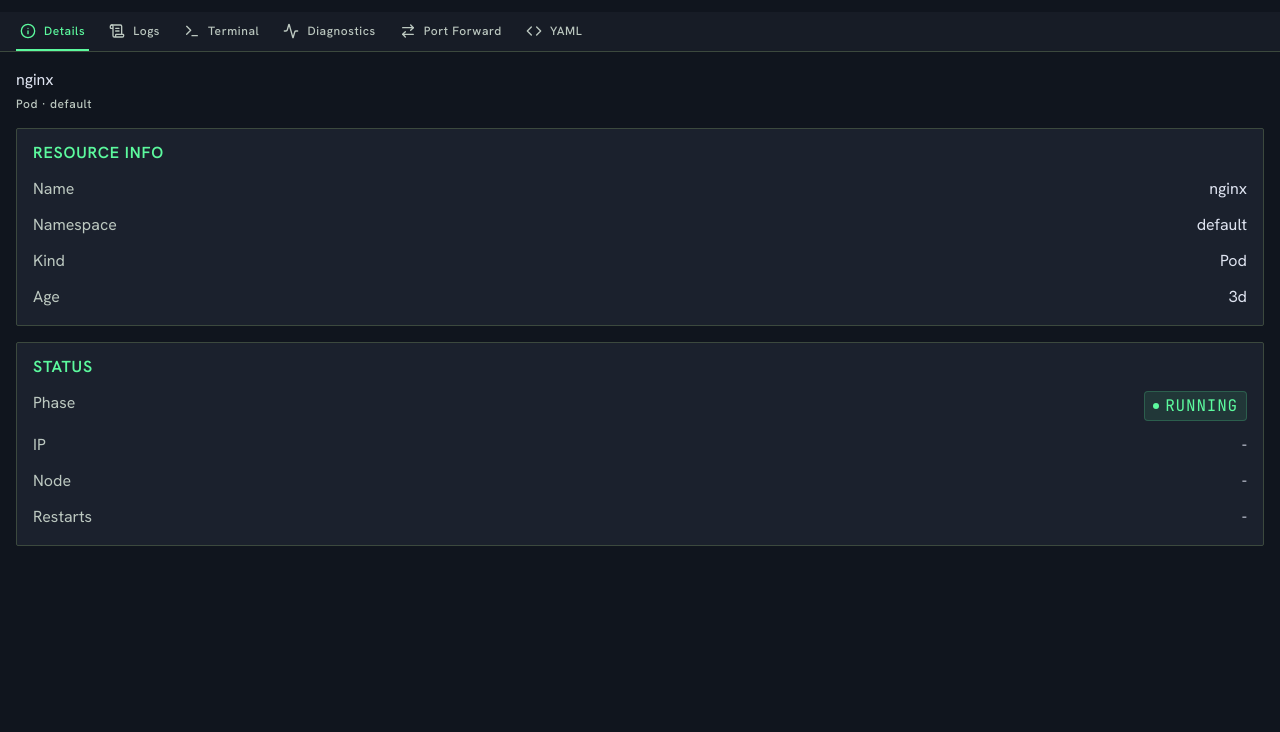
Test: PodDetailTabs › renders exec output from events in the terminal tab
This screenshot has width=1280, height=732.
Click the button "Terminal": [222, 32] box [180,12,263,51]
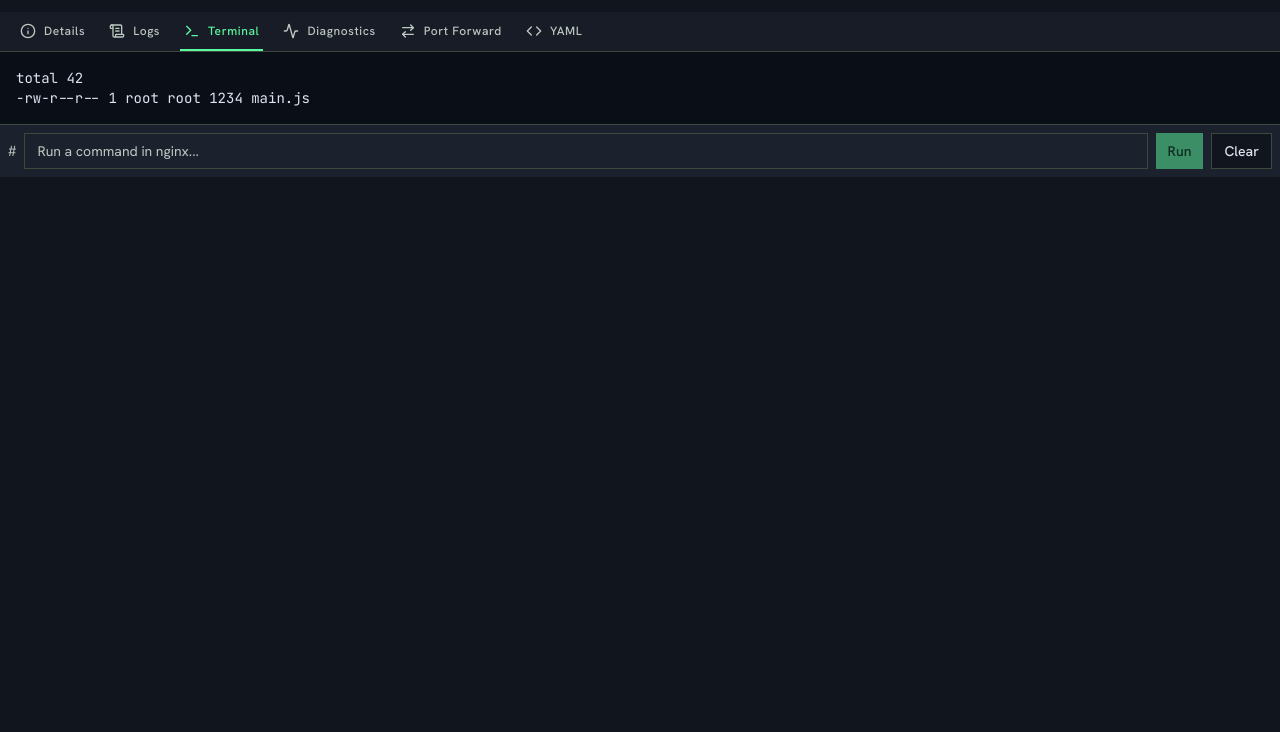
Check: the field with placeholder "Run a command in nginx..." is shown, box [24,133,1148,169]
Check: the text "total 42 -rw-r--r-- 1 root root 1234 main.js" is shown, box [16,69,310,107]
